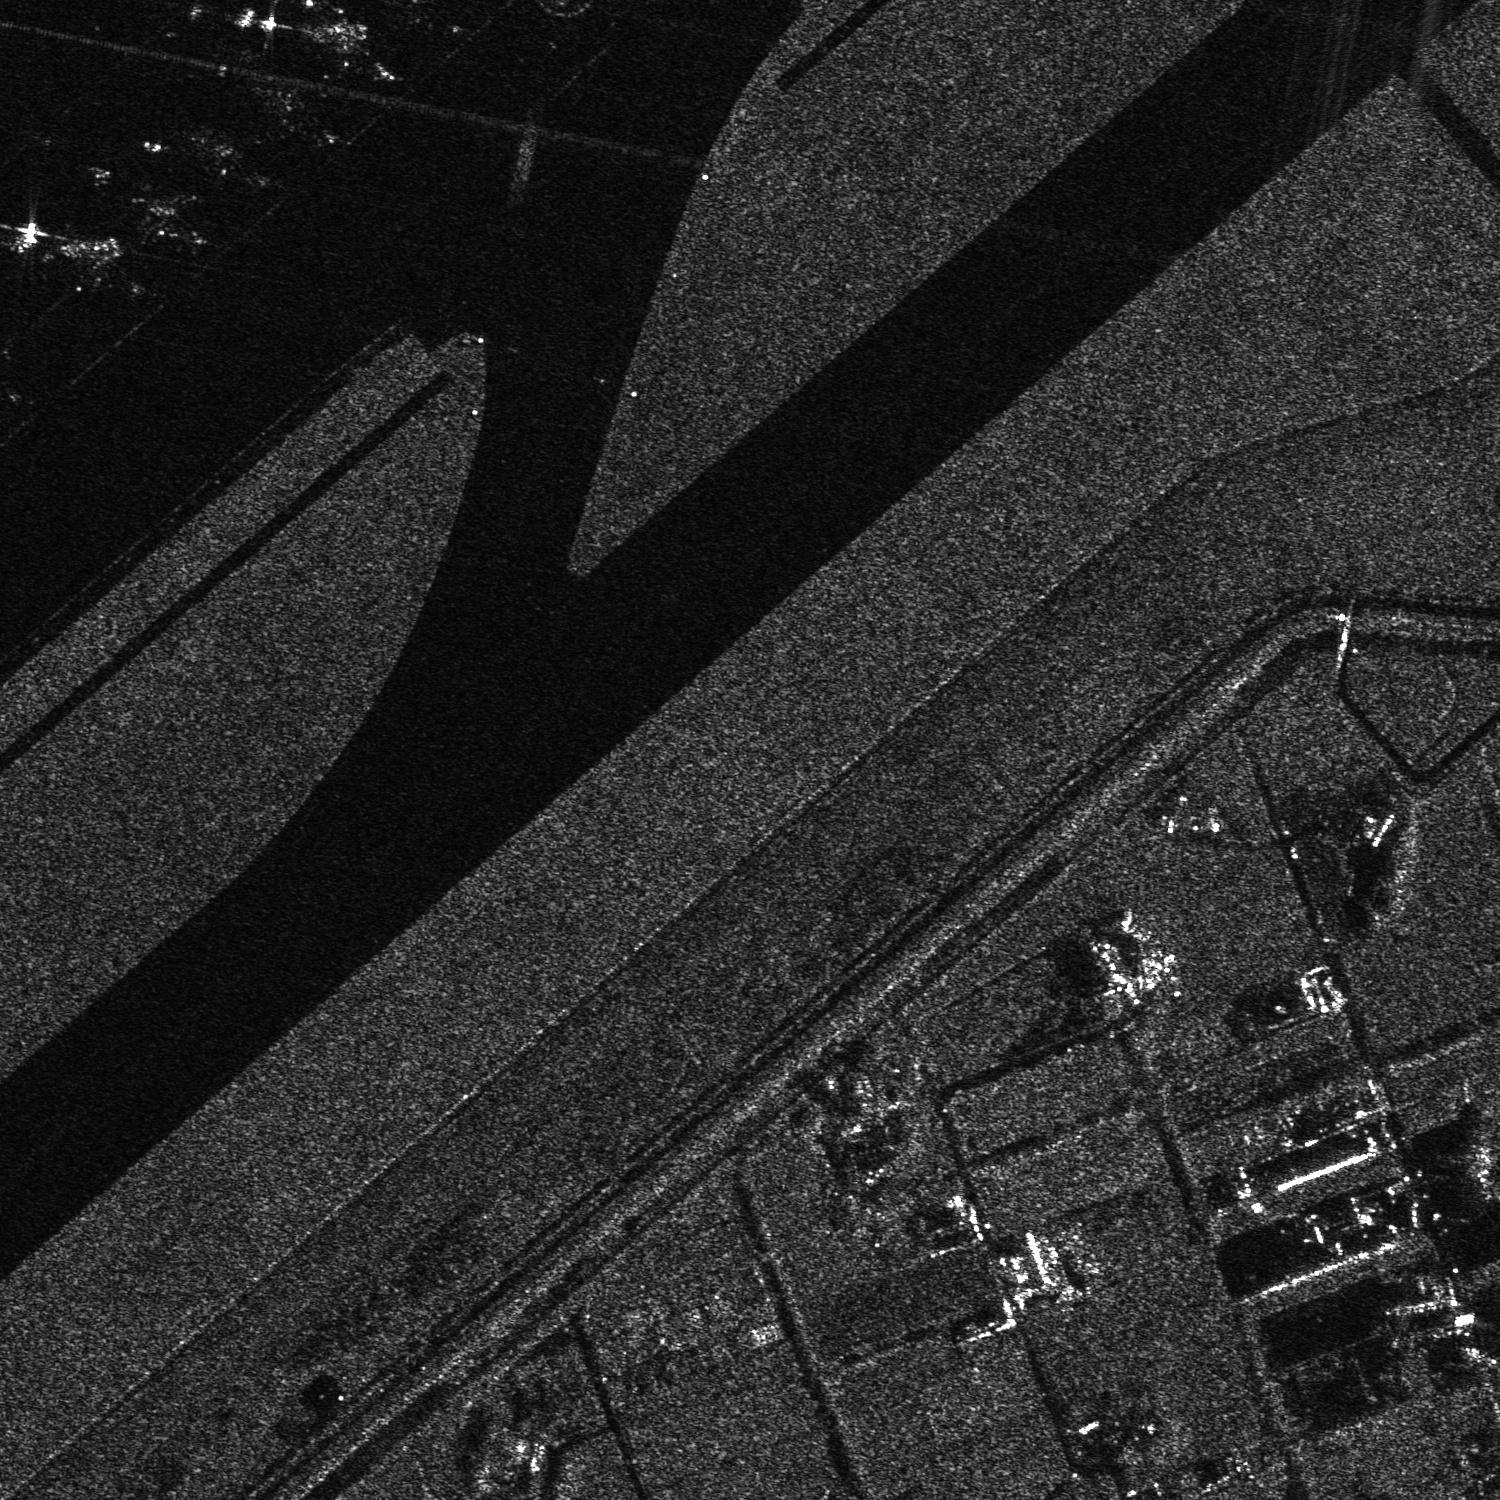Boeing737: (316, 12, 405, 91), (260, 73, 342, 155), (59, 234, 152, 301), (195, 126, 275, 194), (137, 191, 212, 251)
